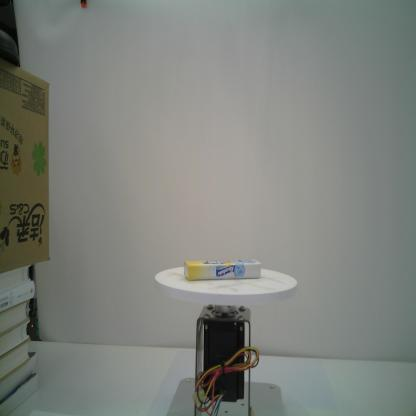Candy: (184, 258, 262, 282)
